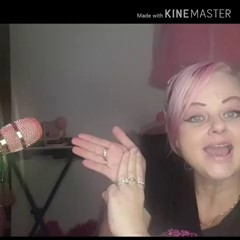M: (69, 116, 160, 236)
